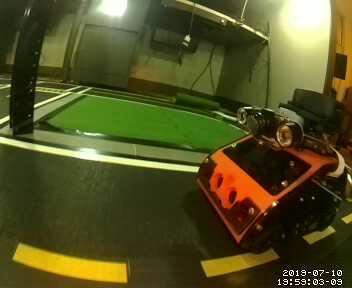pheeno: (195, 86, 352, 248)
